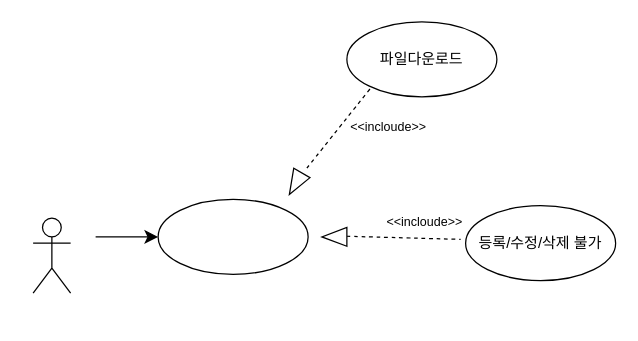
Image size: 638x341. Some labels were removed from this diagram. The shapes that lost their labels are listed below. From the top down, each one's box as (x1, y1, x2, y2) in pixels, then its label:
(32, 217, 71, 293): 일반 사원
(157, 198, 308, 274): 공지사항
